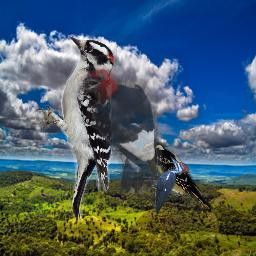Woodpecker: (28, 33, 116, 222), (77, 63, 169, 194), (135, 138, 213, 210), (153, 154, 189, 217)
